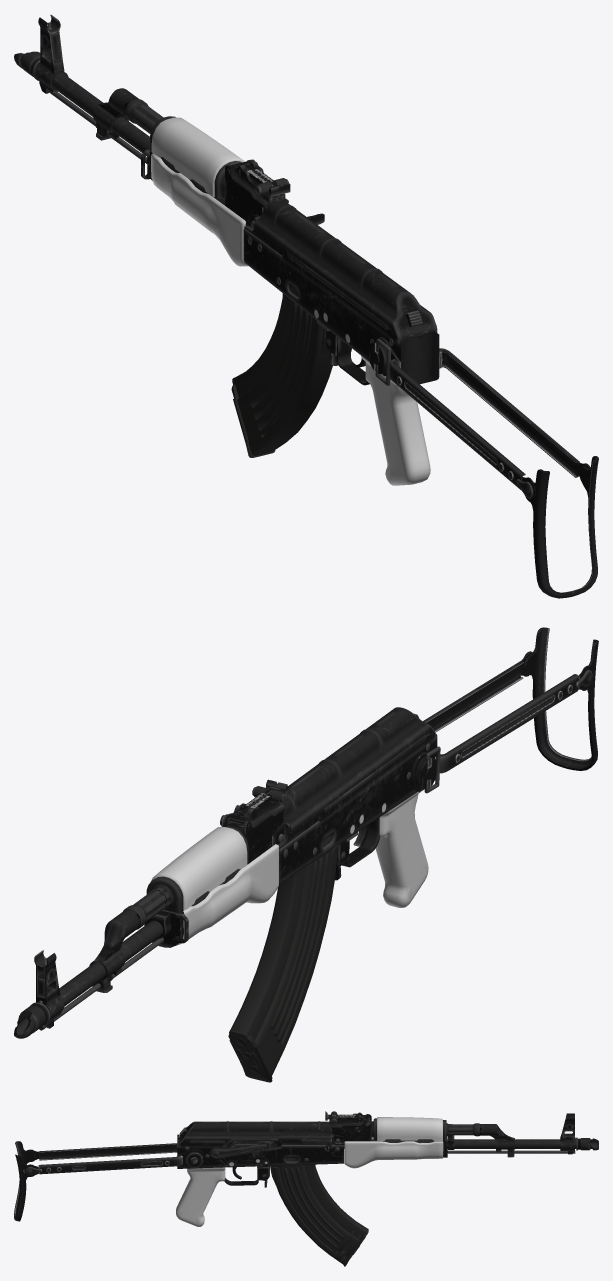
File: AKMS_radom.fbx
The picture shows the model from 3 angles, top to bottom: view 1: azimuth 30°, elevation 25°; view 2: azimuth 150°, elevation 25°; view 3: azimuth 270°, elevation 25°; orthographic projection. The views are drawn at different scales.
Parts seen in each view (by area): view 1: AKMS_body, AKMS_wooden_furniture, AKMS_stock, AKM_steel_mag_30rds; view 2: AKMS_body, AKM_steel_mag_30rds, AKMS_wooden_furniture, AKMS_stock; view 3: AKMS_body, AKMS_wooden_furniture, AKM_steel_mag_30rds, AKMS_stock.
Boxes of the visible parts, box(x1,y1,x2,y2) form: AKMS_body: box(14, 14, 439, 385); AKMS_wooden_furniture: box(151, 117, 430, 485); AKMS_stock: box(369, 337, 598, 598); AKM_steel_mag_30rds: box(231, 293, 332, 457); AKMS_body: box(14, 707, 437, 1038); AKM_steel_mag_30rds: box(228, 845, 337, 1082); AKMS_wooden_furniture: box(151, 791, 428, 945); AKMS_stock: box(411, 627, 598, 793); AKMS_body: box(177, 1111, 598, 1187); AKMS_wooden_furniture: box(176, 1117, 443, 1226); AKM_steel_mag_30rds: box(270, 1164, 368, 1266); AKMS_stock: box(14, 1141, 205, 1221).
Bounding box in the file's own units: 7.52 × 25.88 × 91.39.
